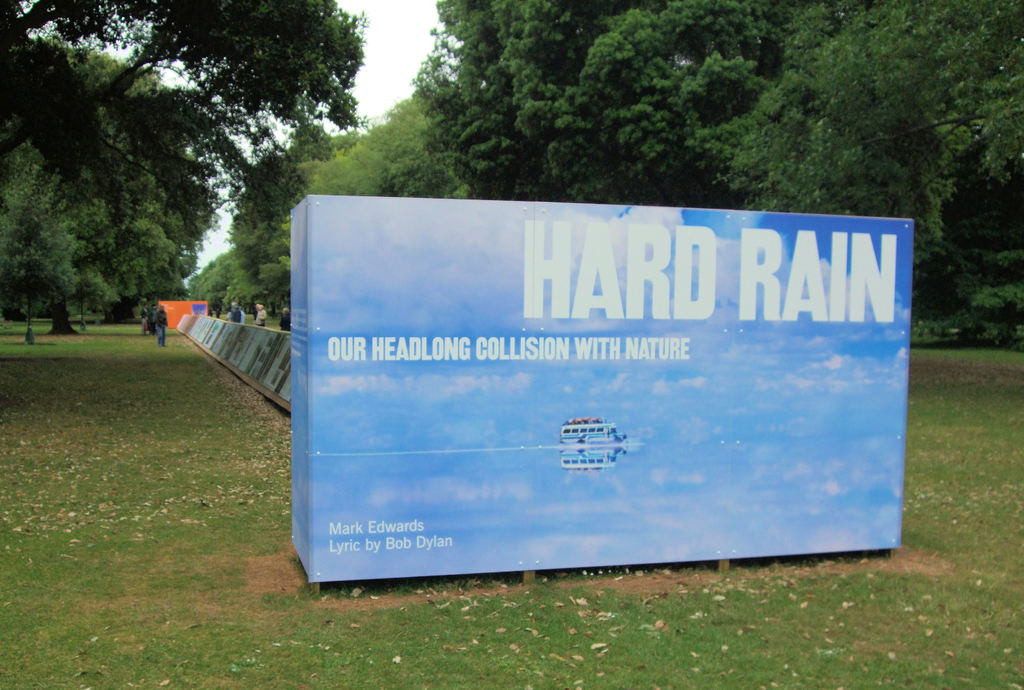Tree: (0, 14, 380, 331), (686, 0, 1023, 280), (405, 0, 816, 212), (221, 81, 478, 304)
